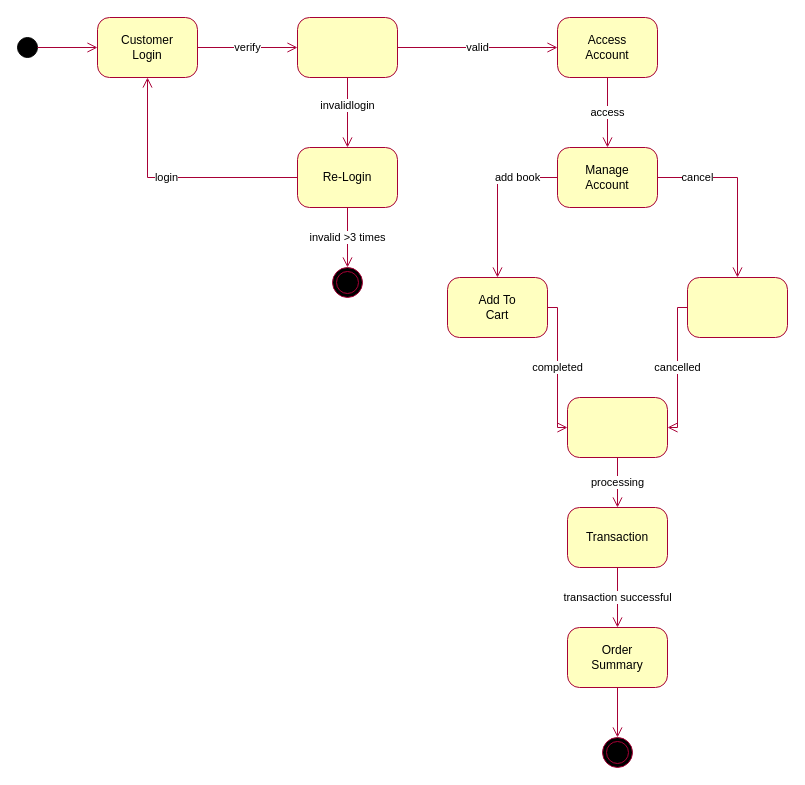
Some shapes in this 805 by 785 pixel diagram are drawn without their labels. The box of each missing label's shape, as (x1, y1, x2, y2) in pixels:
Cancel Book: (686, 276, 788, 338)
Order Processing: (566, 396, 668, 458)
Verification: (296, 16, 398, 78)
